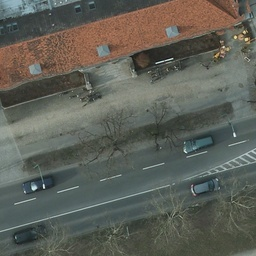car: (13, 224, 49, 244), (184, 134, 216, 156), (191, 176, 221, 198), (24, 174, 55, 195)
